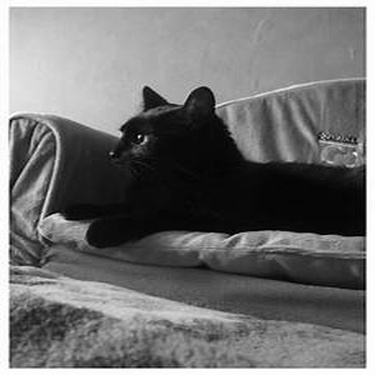cat: (54, 82, 355, 247)
